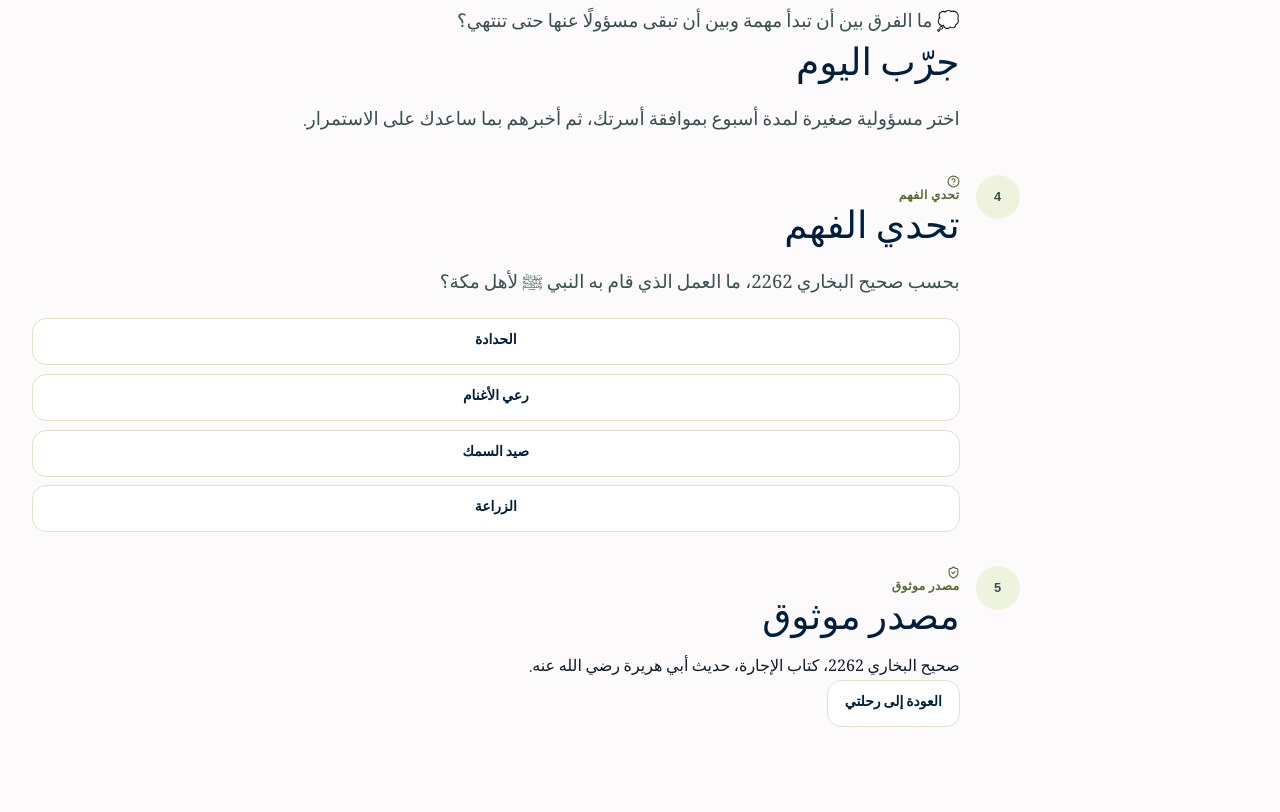
Station 1 Seerah content pilot › reveals the existing keepsake only after the pilot story question is answered
(page scrolled)
Check: the text "عصا الراعي" is not shown
Click the button "رعي الأغنام". click: (496, 397)
box: [32, 374, 960, 421]
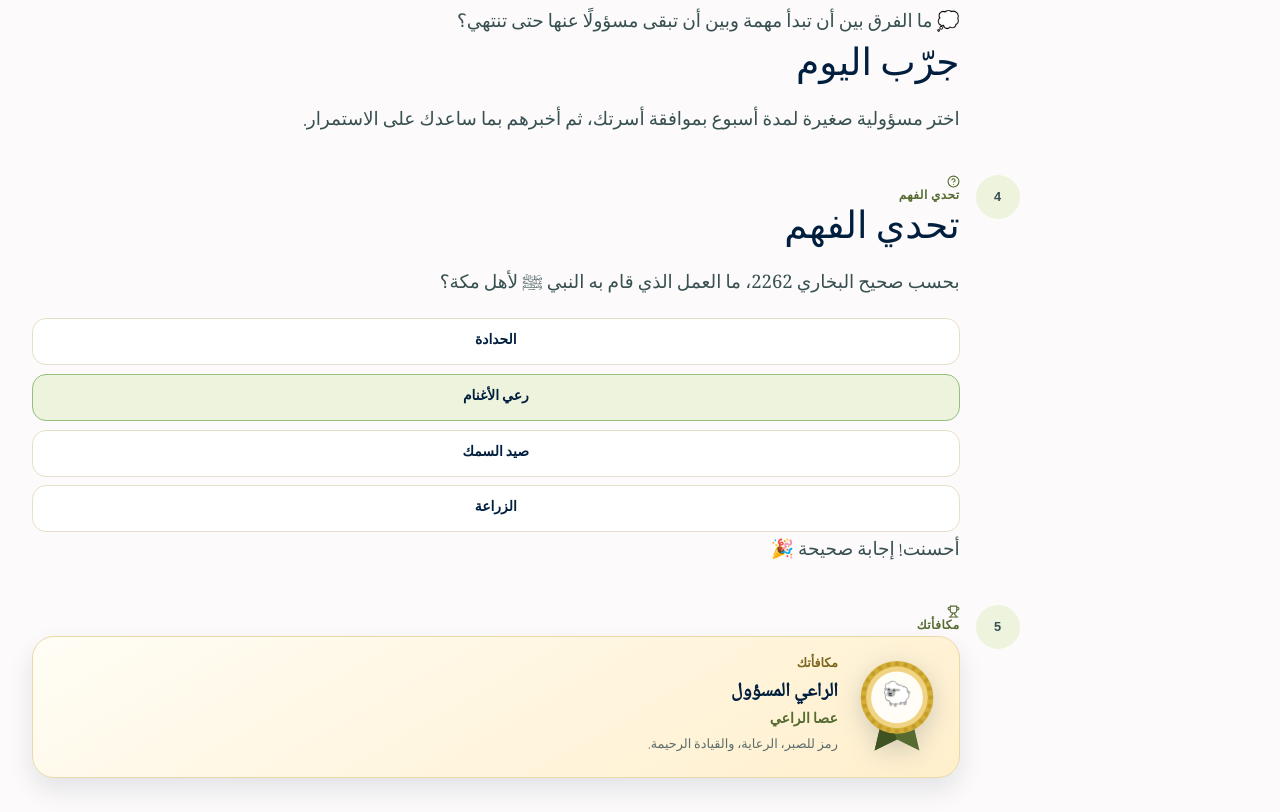
Check: the text "عصا الراعي" is shown, box [770, 708, 838, 732]
Check: the picture named "مكافأتك: الراعي المسؤول" is shown, box [32, 636, 960, 778]
